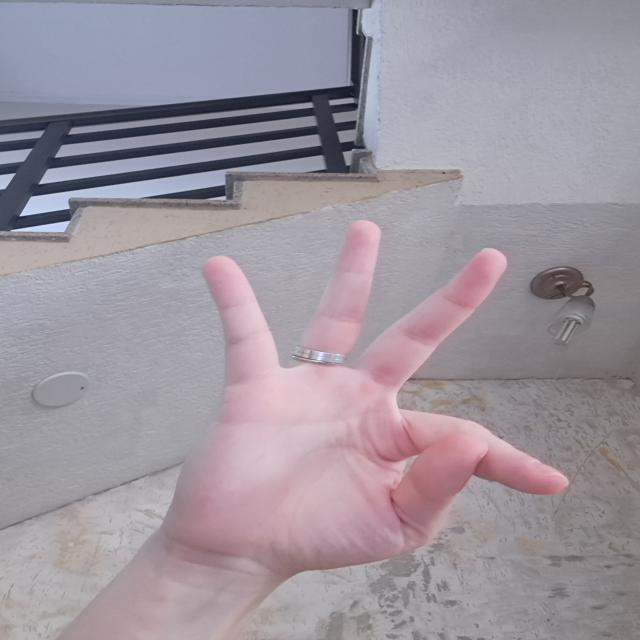T: (162, 220, 575, 594)
